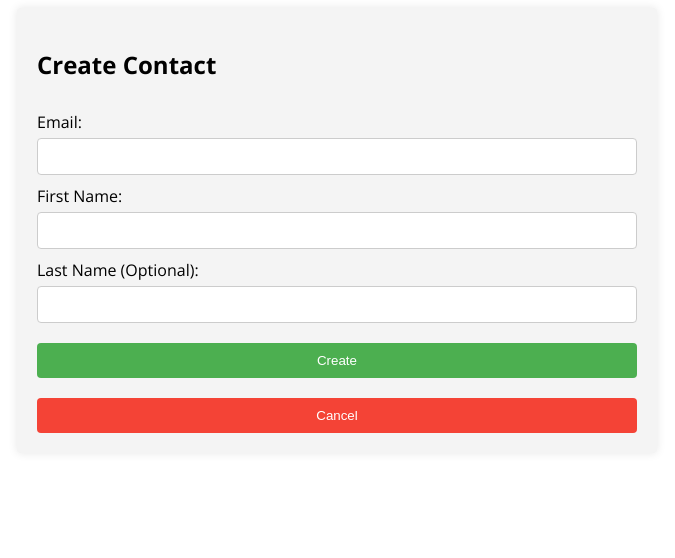
it: CreateContactPage Component › Gives the correct error message when email is empty
The image size is (675, 558).
Type "bbbbbbbbbbbbbbbbbbbbbbbbbbbbbbb" into the field labelled "First Name:" at x=337, y=230, box [37, 212, 637, 249]
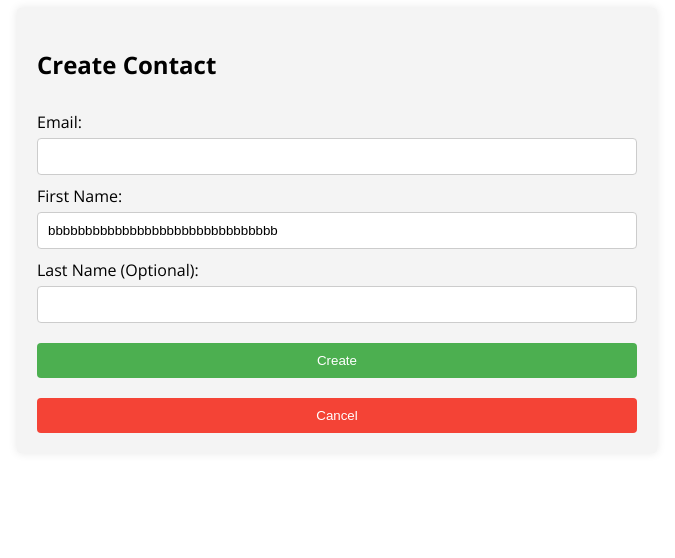
Click the button "Create" at x=337, y=360, box [37, 343, 637, 378]
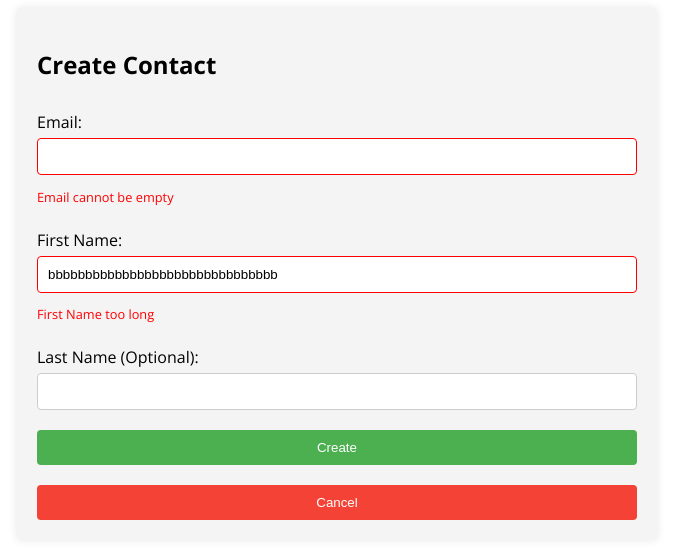
Now the text "Email cannot be empty" is shown, box [37, 188, 174, 206]
